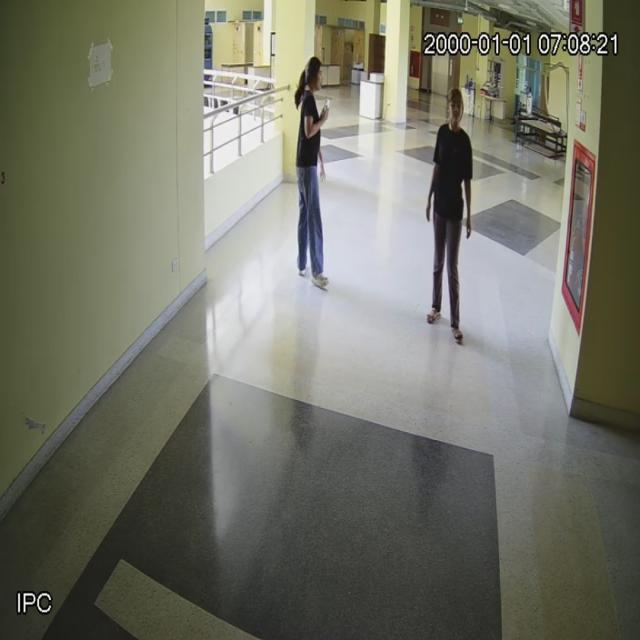normal: (427, 90, 473, 344), (292, 59, 330, 288)
